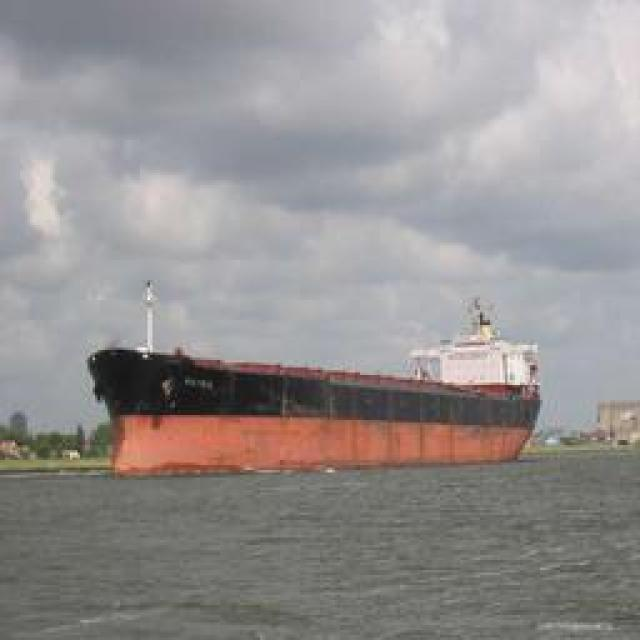CIV_Ship: (94, 300, 542, 472)
